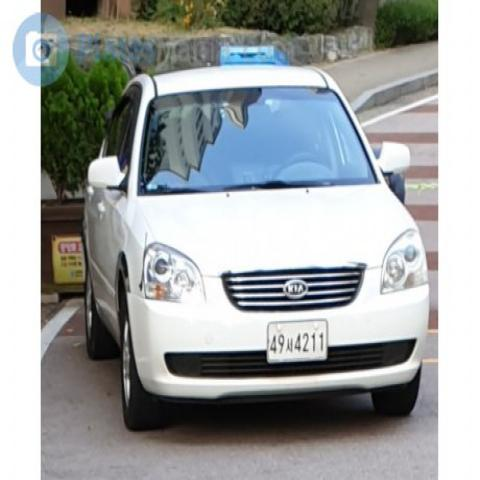LP: (263, 310, 333, 372)
